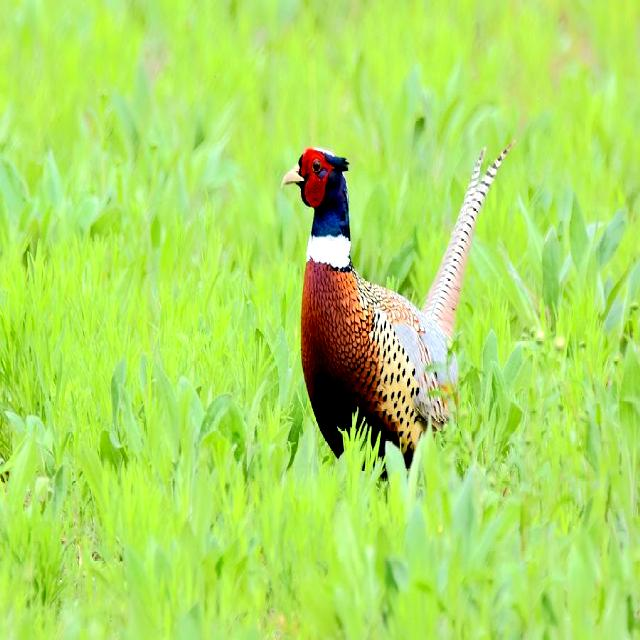Phasianus Colchicus: (420, 138, 518, 344)
